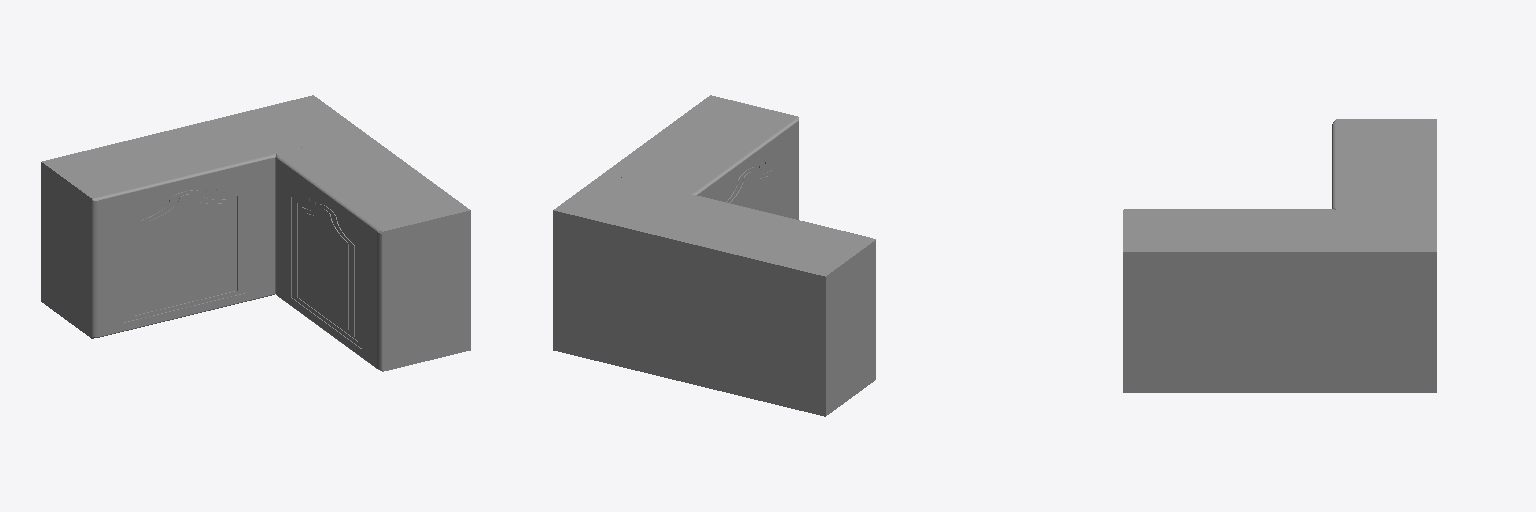
File: corner-base-unit-1200.obj
The picture shows the model from 3 angles: view 1: azimuth 30°, elevation 25°; view 2: azimuth 150°, elevation 25°; view 3: azimuth 270°, elevation 25°; orthographic projection.
Visible parts, largest first — view 1: Cube.003_Cube.008, Cube.004_Cube.000, Cube.005, Cube_Cube.002, Cube.001, Cube.002_Cube.004, Cube.006; view 2: Cube_Cube.002, Cube.006, Cube.001, Cube.002_Cube.004, Cube.004_Cube.000; view 3: Cube.001, Cube.006, Cube_Cube.002.
Part boxes in pixels (x1,y1,x2,y2): Cube.003_Cube.008: (92,154,275,338); Cube.004_Cube.000: (275,154,382,371); Cube.005: (383,209,470,371); Cube_Cube.002: (44,117,275,197); Cube.001: (277,132,468,230); Cube.002_Cube.004: (41,161,92,338); Cube.006: (226,95,362,153); Cube_Cube.002: (641,195,872,415); Cube.006: (553,173,690,371); Cube.001: (605,96,796,194); Cube.002_Cube.004: (823,239,875,416); Cube.004_Cube.000: (692,117,798,219); Cube.001: (1125,210,1335,392); Cube.006: (1336,210,1436,392); Cube_Cube.002: (1336,121,1436,209).
Size of the model in its own units: 354 by 174 by 354.